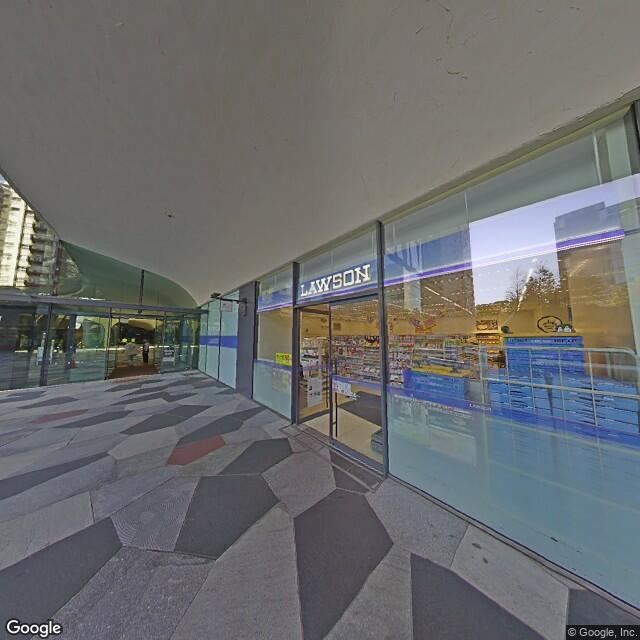lawson: (258, 179, 614, 318)
